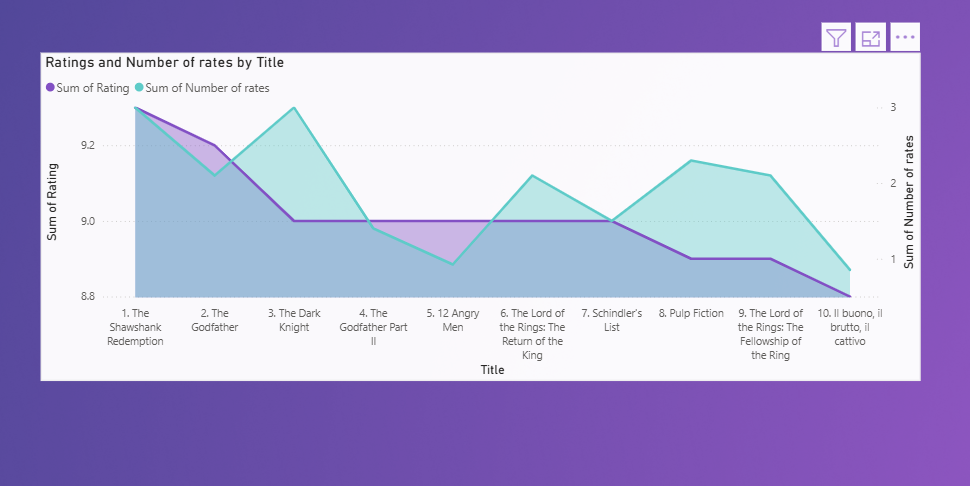

The dashboard page shown, as its layout file describes it:
{"tool":"powerbi","page":{"name":"Page 3","canvas":[1280,720],"ordinal":2},"visuals":[{"type":"areaChart","title":"Ratings and Number of rates by Title","fields":{"Category":["Top10.Title"],"Y":["Sum(Top10.Rating)"],"Y2":["Sum(Top10.Number of rates)"]},"box":[176.4,119,1005.1,375.4],"z":0}]}

Visuals, with their boxes on the page's 1280x720 design canvas (x1, y1, x2, y2). These are canvas units, not pixel positions in the 970x486 screenshot, which may show the page scaled, cropped or inside an application window:
"Ratings and Number of rates by Title" areaChart: (176, 119, 1182, 494)
